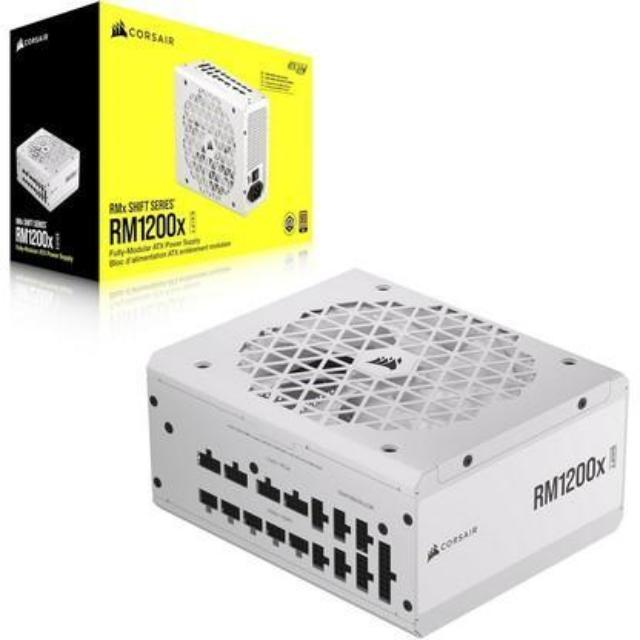PSU: (138, 257, 640, 640)
